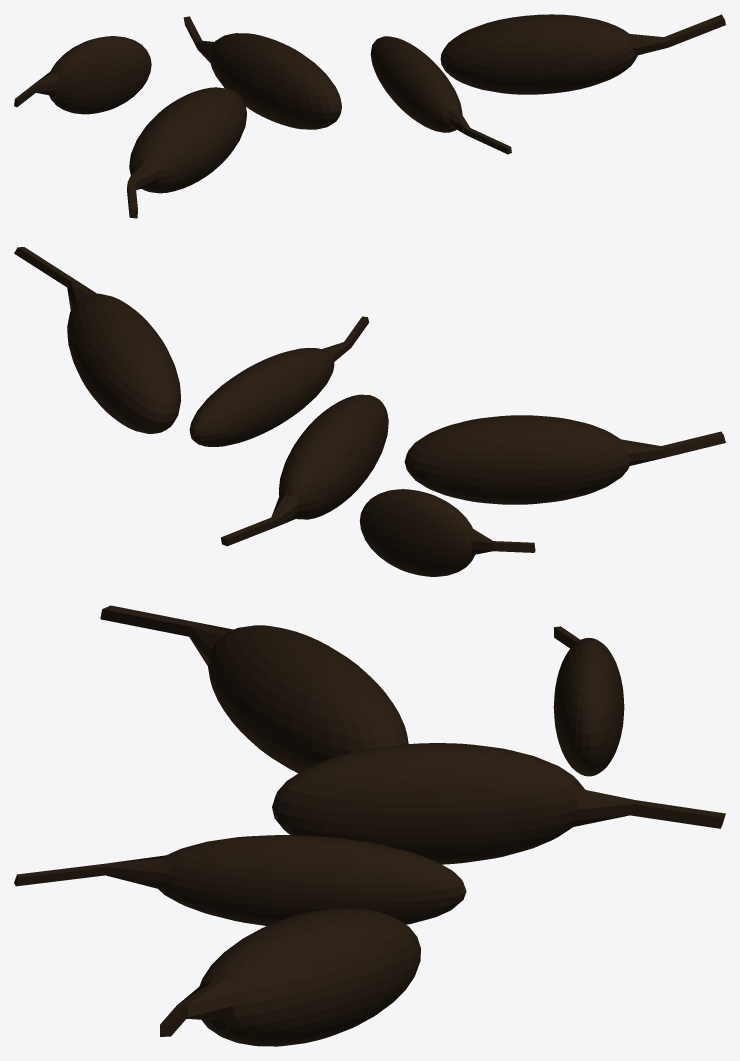
Rendered from MouseDropsFinal.fbx.
3 renders of one model, top to bottom at view 1: azimuth 30°, elevation 25°; view 2: azimuth 150°, elevation 25°; view 3: azimuth 270°, elevation 25°, orthographic. The views are drawn at different scales.
Parts seen in each view (by area): view 1: Drop.004, Drop.001, Drop.003, Drop, Drop.002; view 2: Drop.001, Drop.004, Drop.003, Drop.002, Drop; view 3: Drop.003, Drop.004, Drop.002, Drop.001, Drop.
Part boxes in pixels (x1,y1,x2,y2): Drop.004: (440,14,725,94); Drop.001: (127,87,246,218); Drop.003: (183,16,341,129); Drop: (14,36,151,114); Drop.002: (370,36,511,154); Drop.001: (404,415,725,504); Drop.004: (14,247,181,433); Drop.003: (221,394,388,546); Drop.002: (189,316,369,446); Drop: (359,489,535,576); Drop.003: (272,743,725,864); Drop.004: (160,908,420,1046); Drop.002: (14,835,466,925); Drop.001: (100,605,408,773); Drop: (553,626,624,776).
Bounding box in the file's own units: 82.51 × 9.77 × 52.47.
